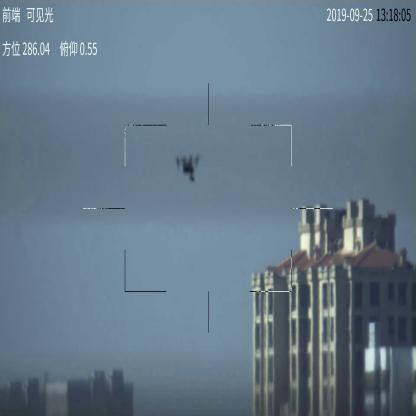uav: (174, 154, 200, 184)
